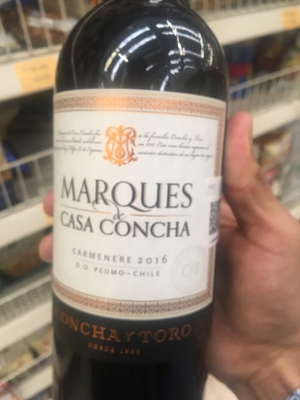marques de casa concha carmenere: (50, 10, 233, 400)
